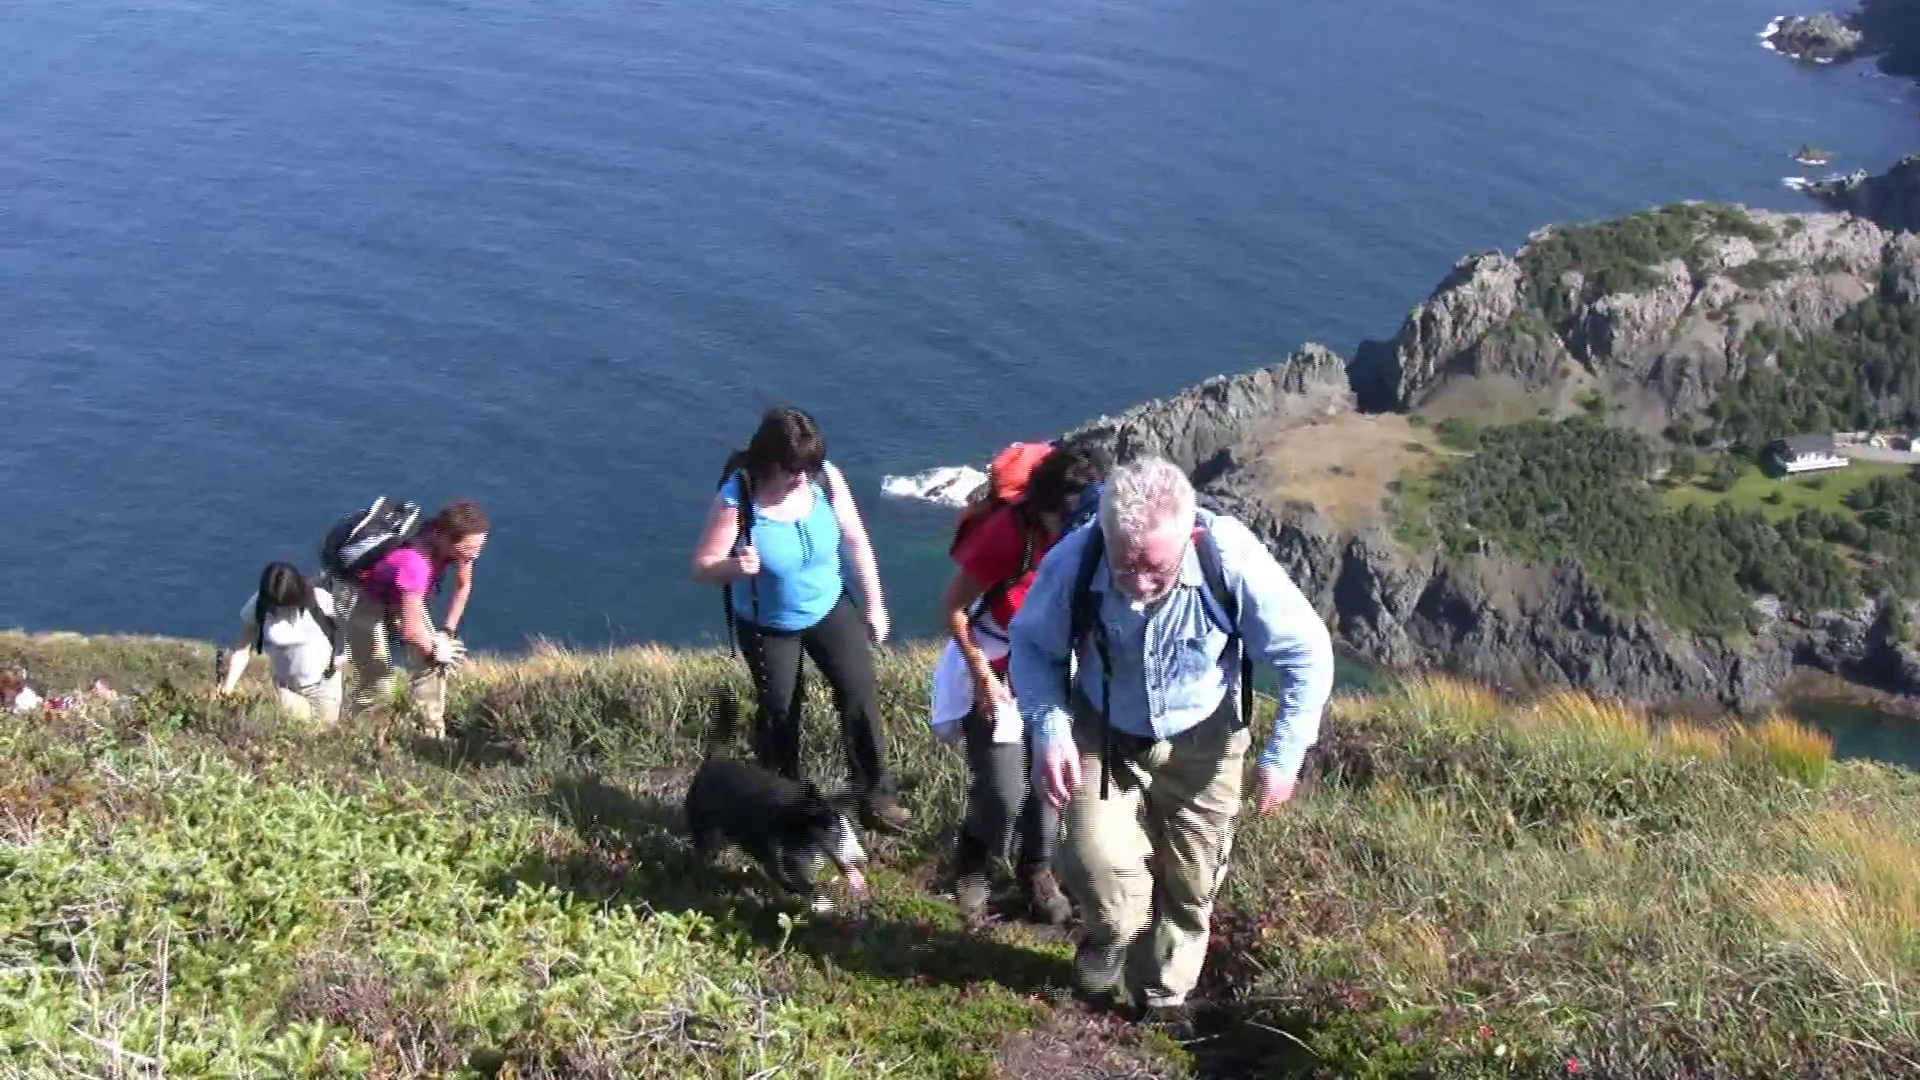person: (1012, 459, 1334, 1036), (689, 406, 913, 827), (319, 455, 487, 739), (224, 561, 347, 722)
